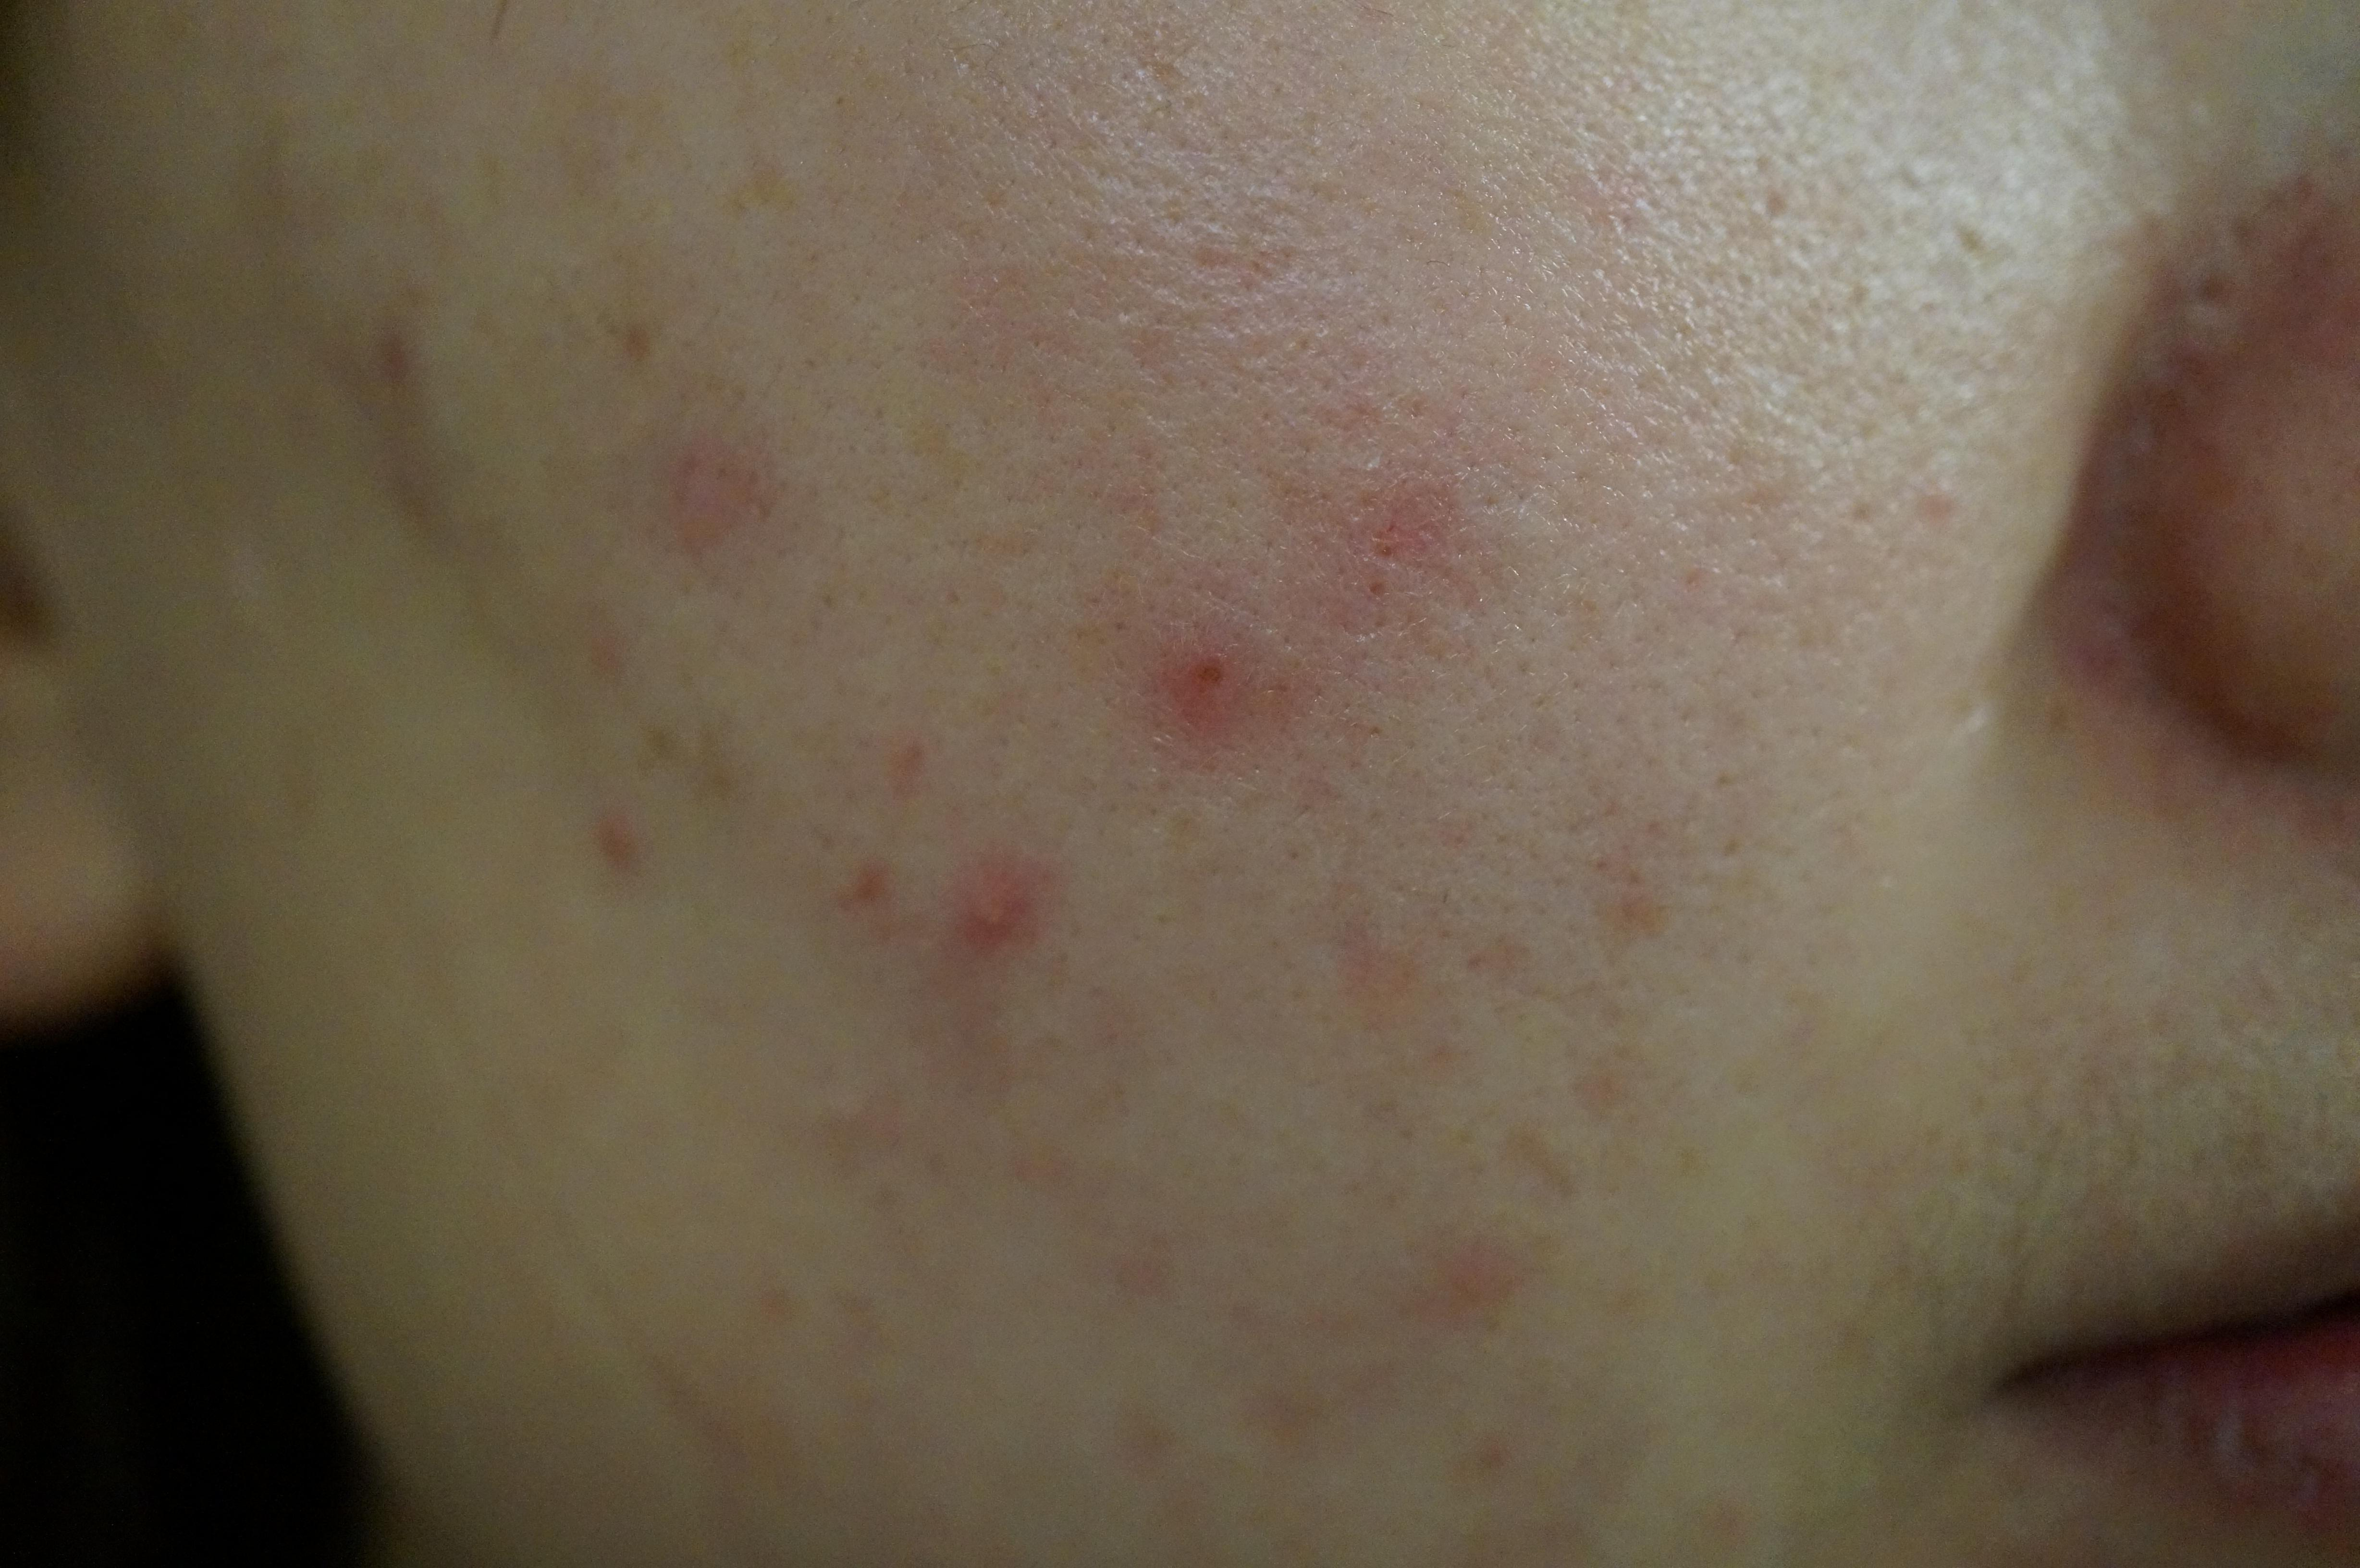fore: (605, 397, 798, 546), (901, 817, 1041, 968), (1153, 590, 1261, 768), (1333, 444, 1440, 581), (574, 808, 677, 880)
